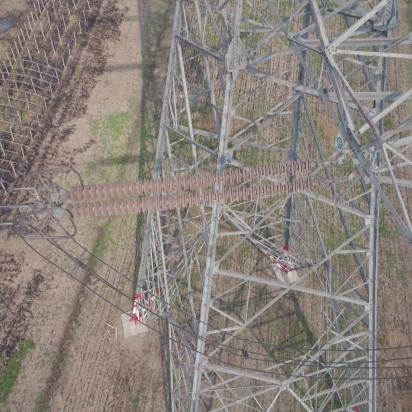insulator: (64, 157, 326, 219)
